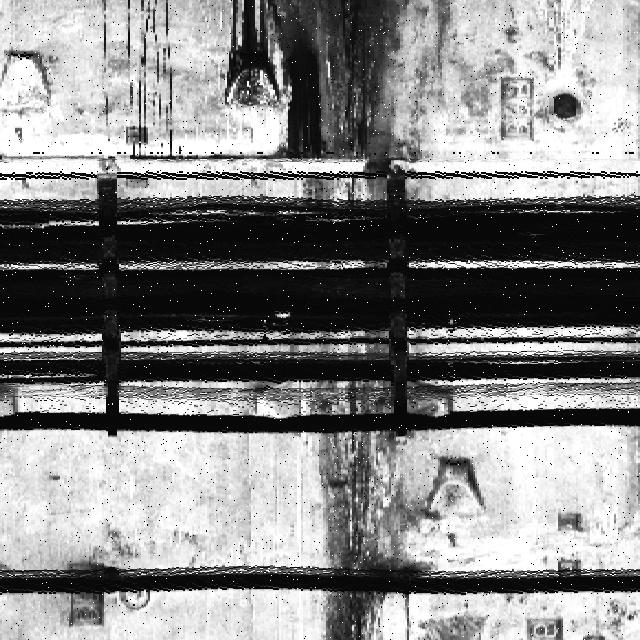leakage: (231, 0, 458, 195), (310, 378, 430, 639)
